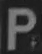Parking: (5, 3, 35, 47)
